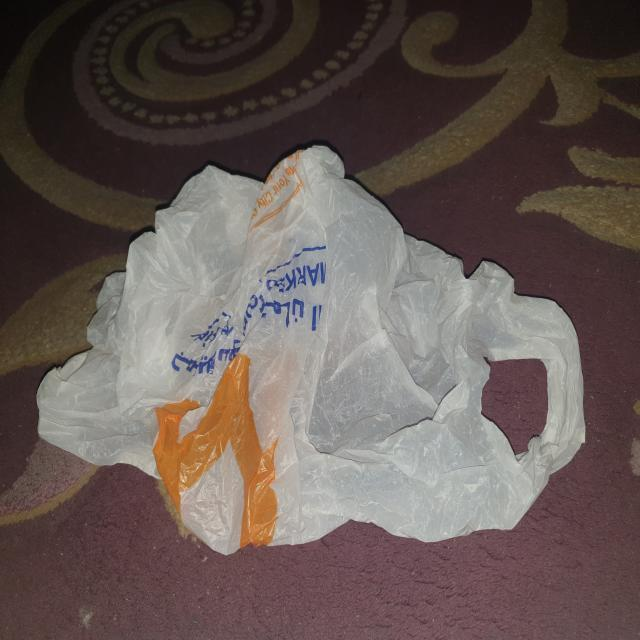Plastic_Bag: (28, 132, 591, 560)
